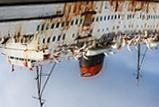rust: (63, 3, 96, 25), (109, 1, 149, 14), (11, 28, 34, 43)
